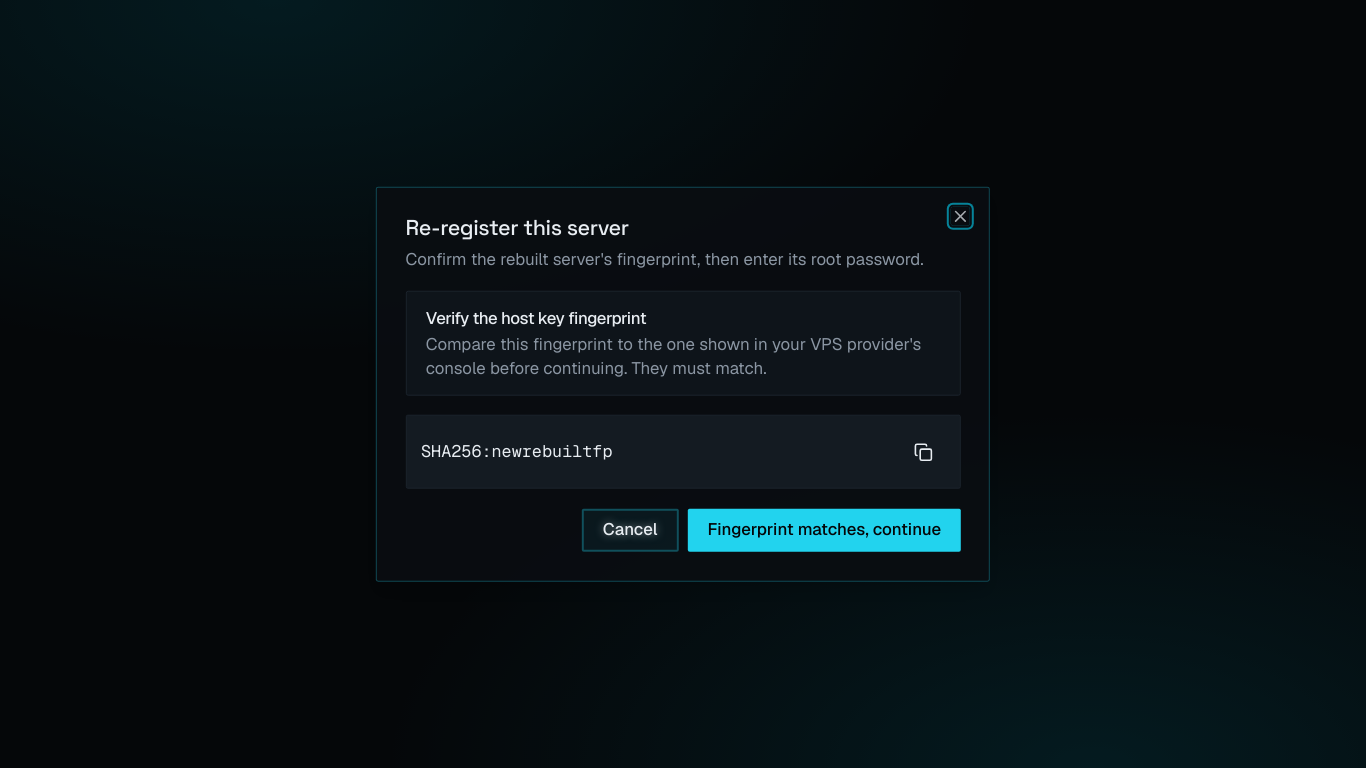
it: ReregisterDialog › completes and surfaces the harden-and-redeploy callout
Click the button "Fingerprint matches, continue": (824, 530) [688, 508, 960, 552]
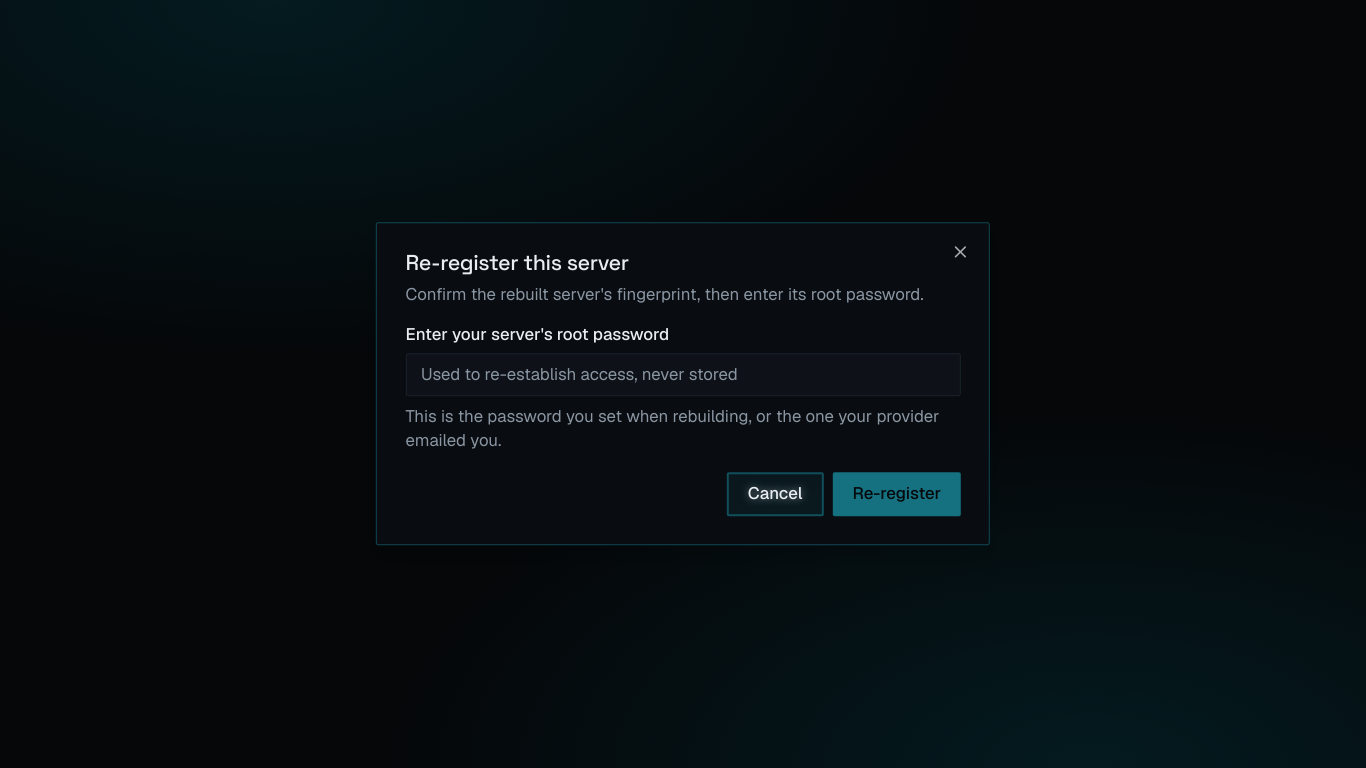
In the password field labelled "Enter your server's root password": (683, 374) [406, 353, 960, 396], type "provider-pw"
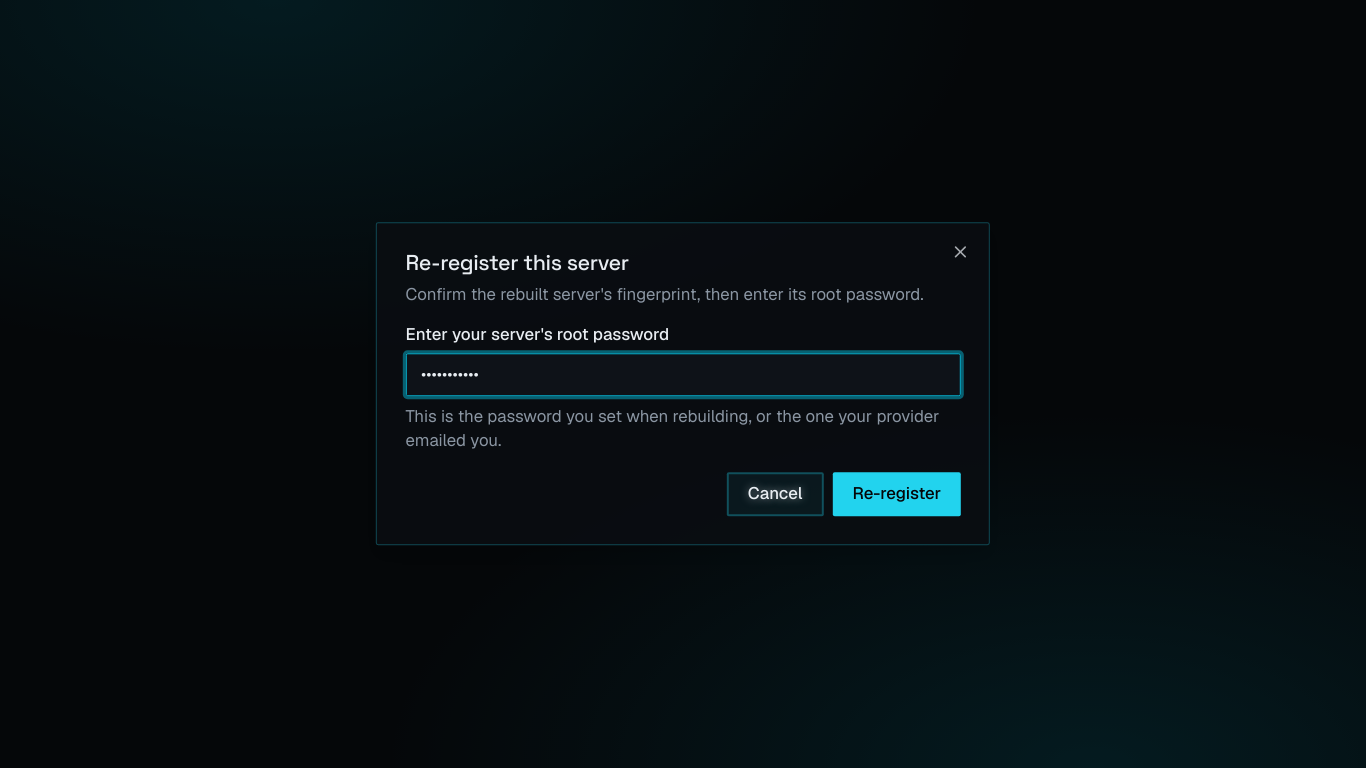
Click the button "Re-register": (897, 494) [833, 473, 960, 516]
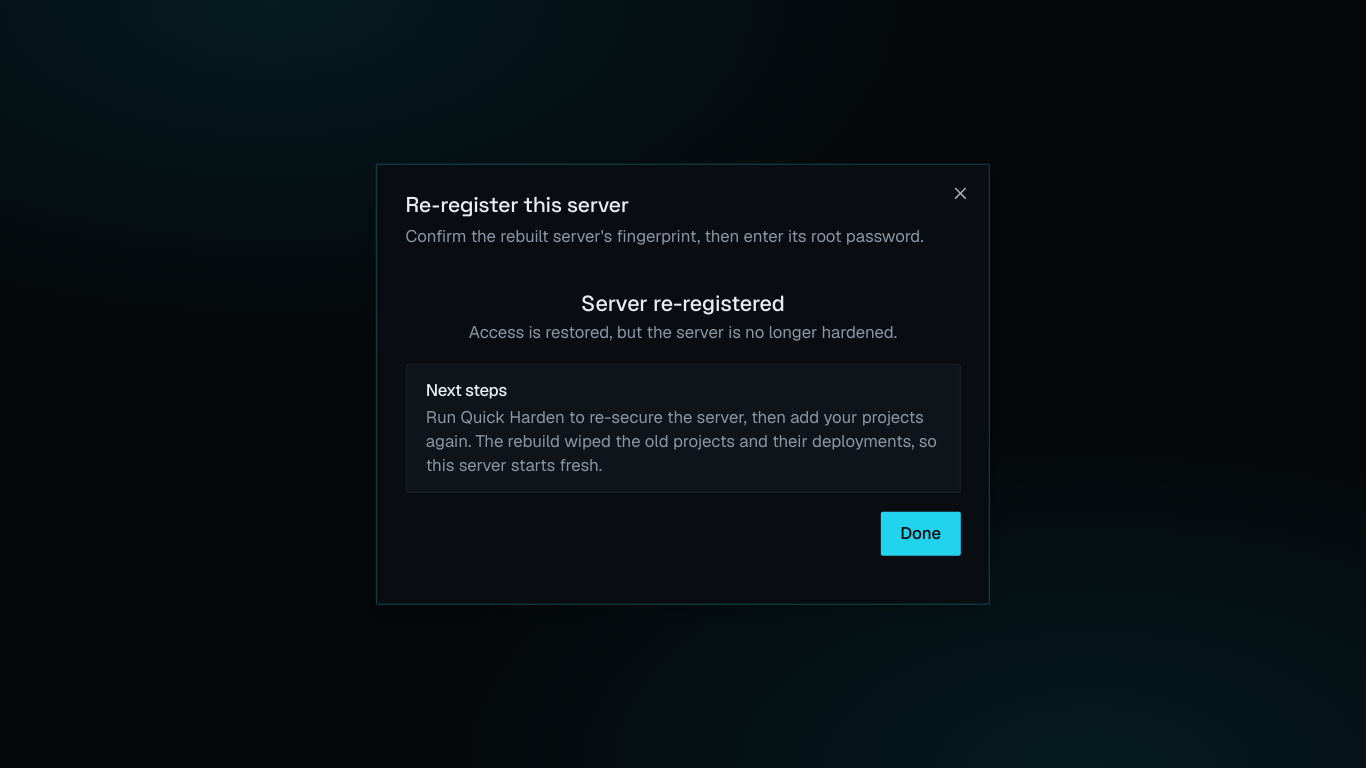
expect the text "Server re-registered" is shown: met, box [581, 289, 785, 317]
expect the text "Run Quick Harden" is shown: met, box [426, 406, 937, 476]
